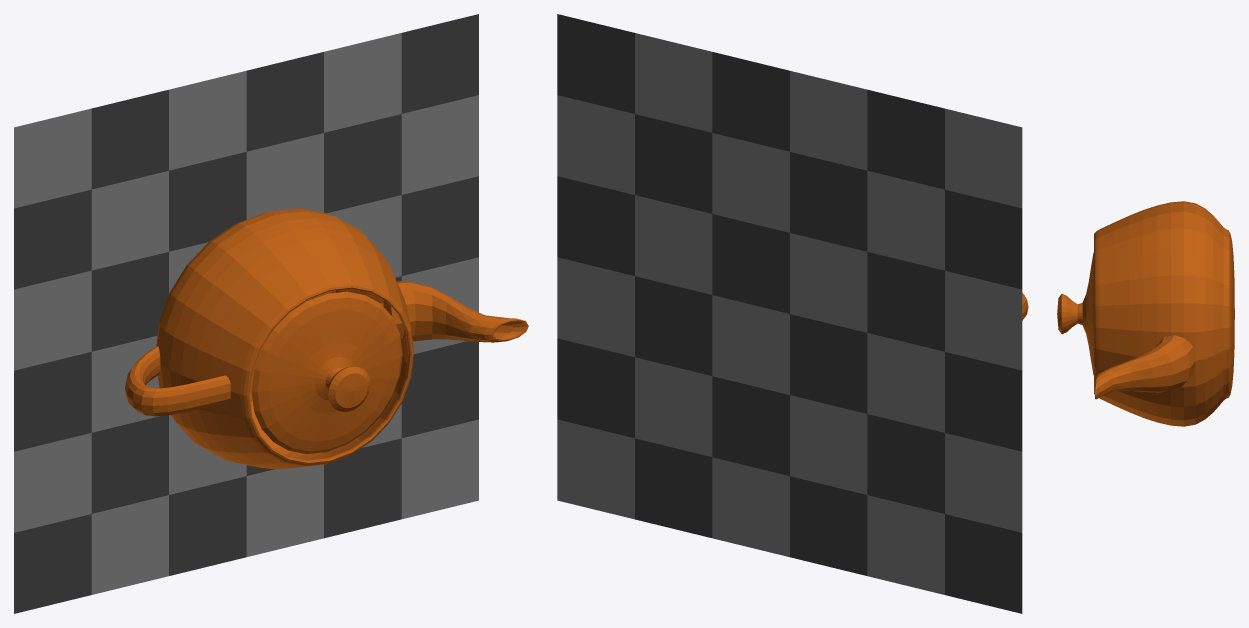
The model's file is teapot.obj.
The picture shows the model from 3 angles, left to right: view 1: azimuth 30°, elevation 25°; view 2: azimuth 150°, elevation 25°; view 3: azimuth 270°, elevation 25°; orthographic projection. The views are drawn at different scales.
Size of the model in its own units: 8 by 8 by 3.15.
